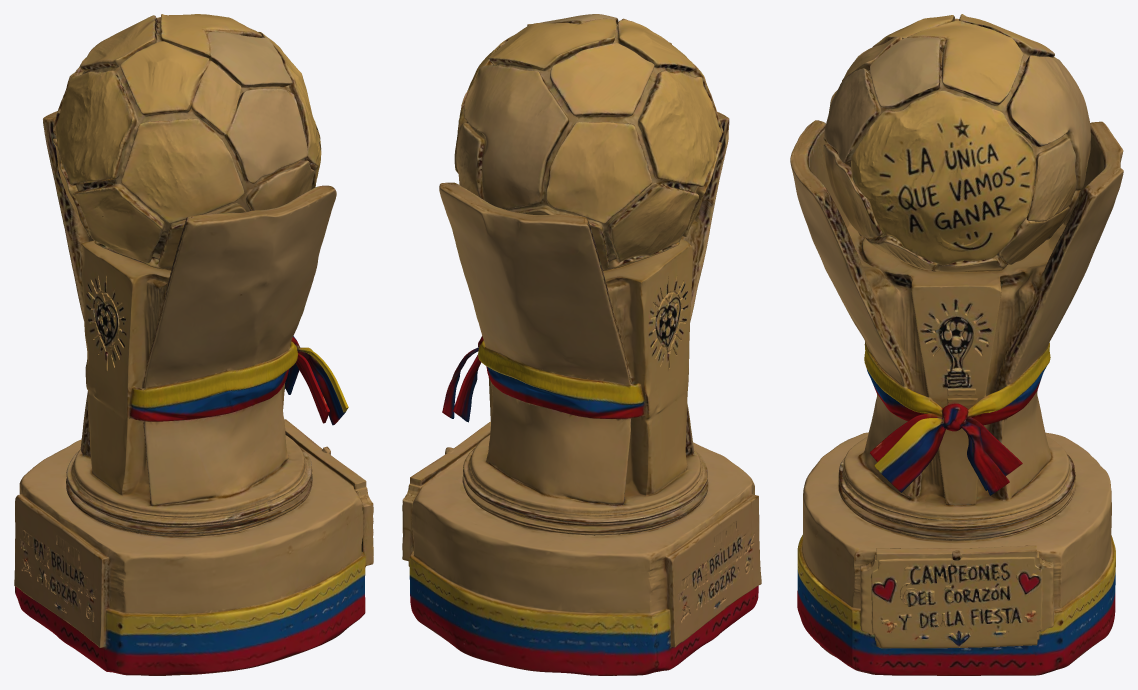
The model's file is copa-chiste-colombia.glb.
The picture shows the model from 3 angles, left to right: view 1: azimuth 30°, elevation 25°; view 2: azimuth 150°, elevation 25°; view 3: azimuth 270°, elevation 25°; orthographic projection.
Visible parts, largest first — view 1: tripo_node_ff2245d2-4fd0-4f89-9bca-91d47f20494d; view 2: tripo_node_ff2245d2-4fd0-4f89-9bca-91d47f20494d; view 3: tripo_node_ff2245d2-4fd0-4f89-9bca-91d47f20494d.
Part boxes in pixels (<box>): tripo_node_ff2245d2-4fd0-4f89-9bca-91d47f20494d: <box>14,14,373,675</box>; tripo_node_ff2245d2-4fd0-4f89-9bca-91d47f20494d: <box>402,14,761,675</box>; tripo_node_ff2245d2-4fd0-4f89-9bca-91d47f20494d: <box>790,14,1123,675</box>.
Size of the model in its own units: 0.4822 by 0.9792 by 0.5096.
1 material, 1 textured.
